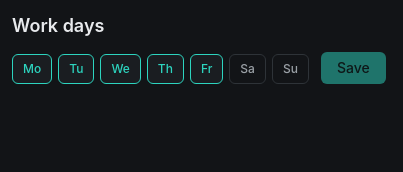
WorkDaysSection › surfaces a failed save
Click the button with aria-label "Saturday" at (248, 69), box [229,54,266,84]
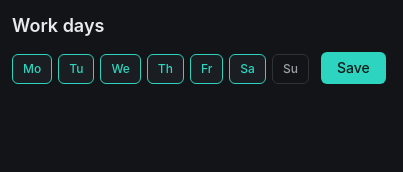
Click the button "Save" at (353, 68), box [321,52,386,84]
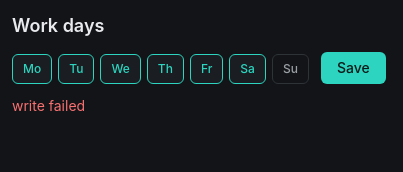
Check: the message reads "write failed", box [12,97,85,114]
